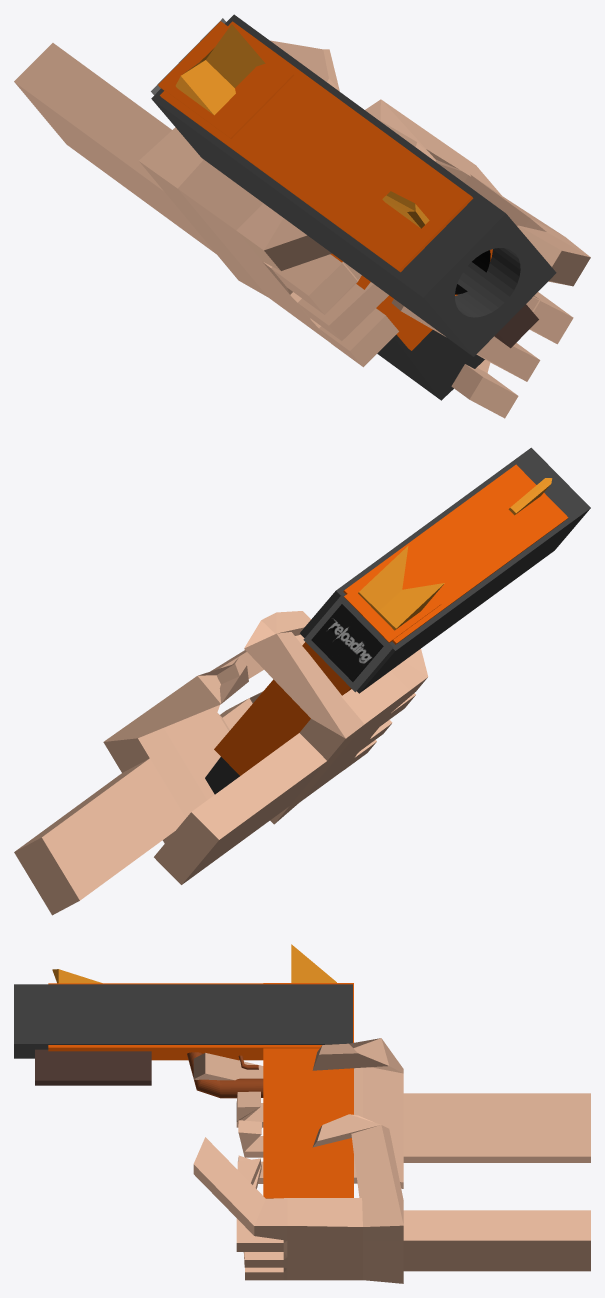
The model's file is gun pistol realoading frame 8.fbx.
The picture shows the model from 3 angles, top to bottom: view 1: azimuth 30°, elevation 25°; view 2: azimuth 150°, elevation 25°; view 3: azimuth 270°, elevation 25°; orthographic projection. The views are drawn at different scales.
Parts seen in each view (by area): view 1: Cube, Cube.005, Cube.001, Cube.008, Cube.002, Cube.006, Cube.004, Cube.003, Cube.007; view 2: Cube.008, Cube, Cube.001, Cube.005, Cube.002, Cube.006, Plane.001, Plane, Cube.004; view 3: Cube.008, Cube, Cube.005, Cube.002, Cube.003, Cube.001, Cylinder, Cube.006.
Part boxes in pixels (x1,y1,x2,y2): Cube: (14,40,398,367); Cube.005: (151,14,556,356); Cube.001: (160,21,492,295); Cube.008: (365,99,590,418); Cube.002: (158,21,432,350); Cube.006: (175,24,265,115); Cube.004: (377,330,484,400); Cube.003: (494,304,538,348); Cube.007: (382,191,429,228); Cube.008: (14,650,263,915); Cube: (154,611,428,884); Cube.001: (343,464,568,644); Cube.005: (300,447,590,693); Cube.002: (214,564,441,775); Cube.006: (358,546,444,630); Plane.001: (311,604,383,681); Plane: (303,595,393,692); Cube.004: (205,757,239,794); Cube.008: (193,1114,590,1283); Cube: (193,1038,590,1188); Cube.005: (14,984,352,1058); Cube.002: (263,983,353,1198); Cube.003: (35,1049,151,1085); Cube.001: (48,983,346,1060); Cylinder: (187,1052,263,1098); Cube.006: (291,944,336,982).
Size of the model in its own units: 336 by 359 by 698.
11 materials, 1 textured.
